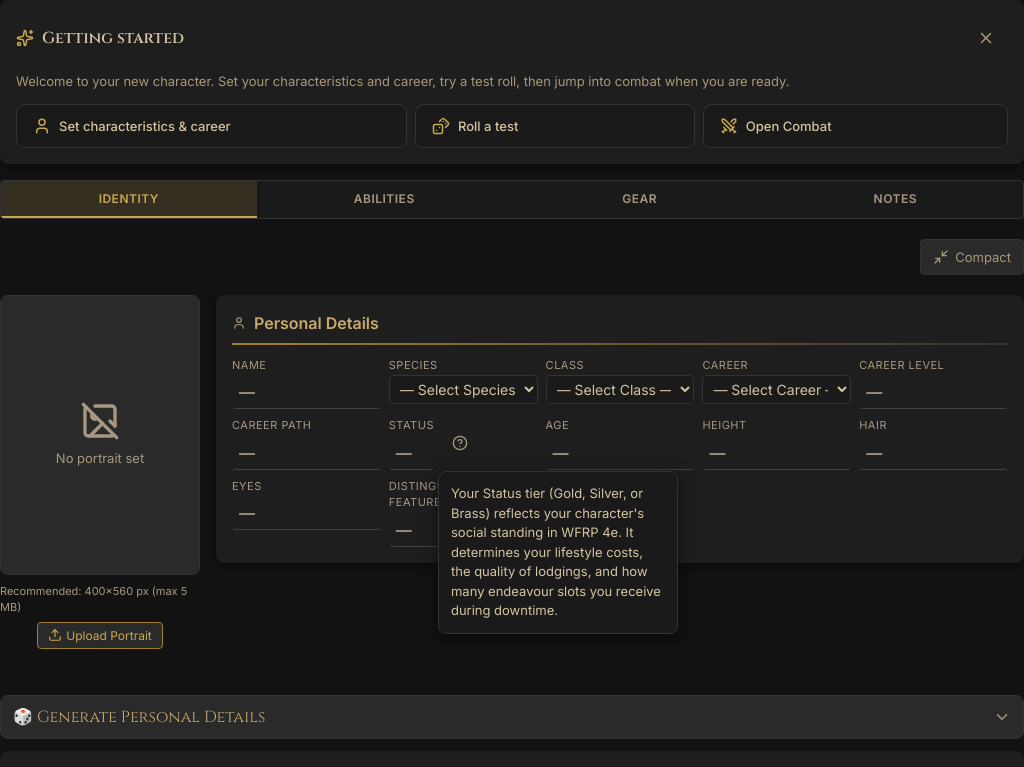
Test: CharacterPage contextual visibility › RollHistoryPanel sub-tab visibility (Req 14.2) › shows RollHistoryPanel when switching from Identity to Abilities tab
The width and height of the screenshot is (1024, 767).
Expected: the text "Roll History" is not shown
Click the Abilities tab
Click the tab "Abilities".
click(384, 199)  # box [256,180,512,218]
(page scrolled)
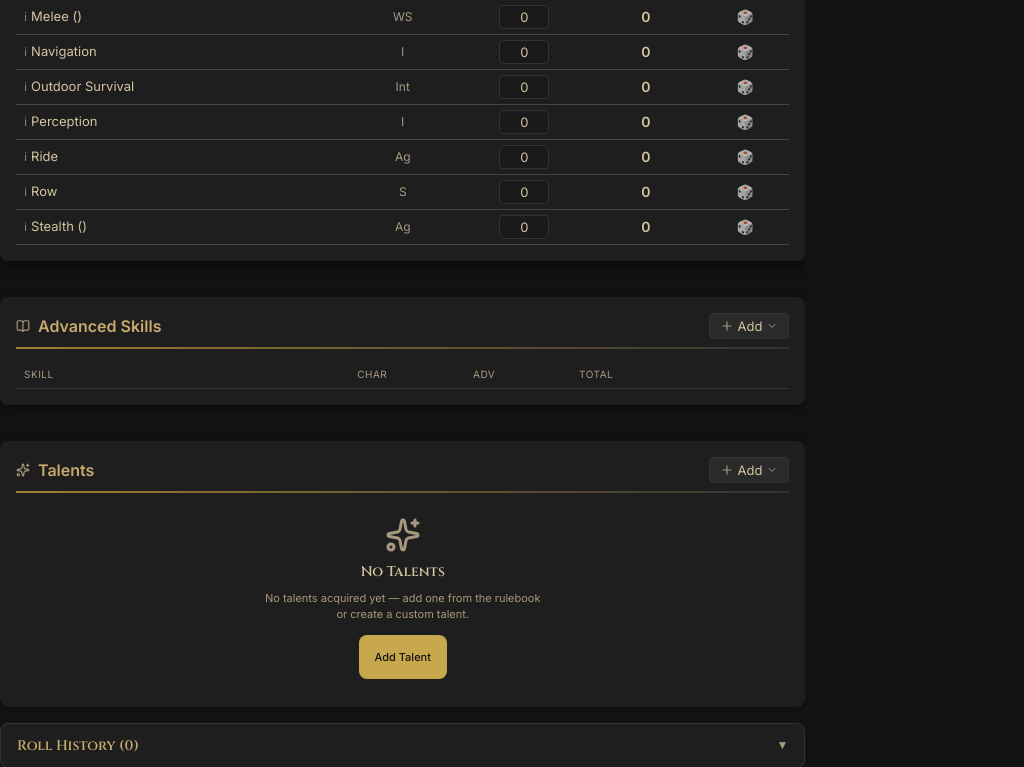
Result: the text "Roll History (0)" is shown at [17,736,139,754]
